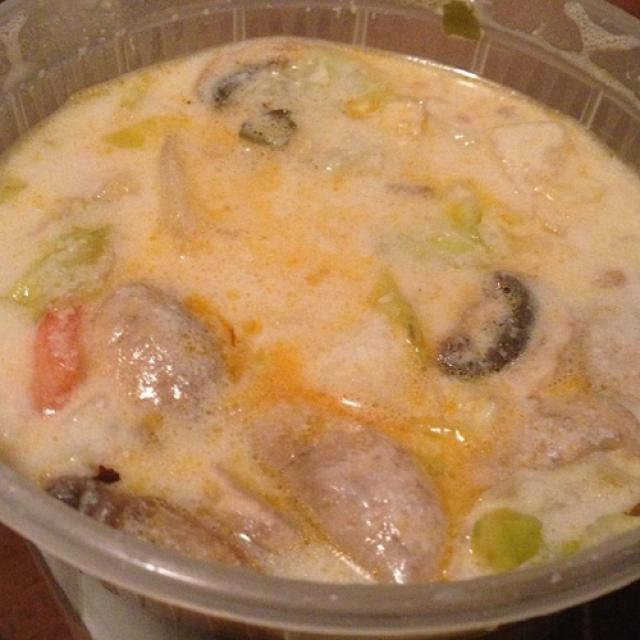汤锅炖物: (13, 15, 626, 594)
